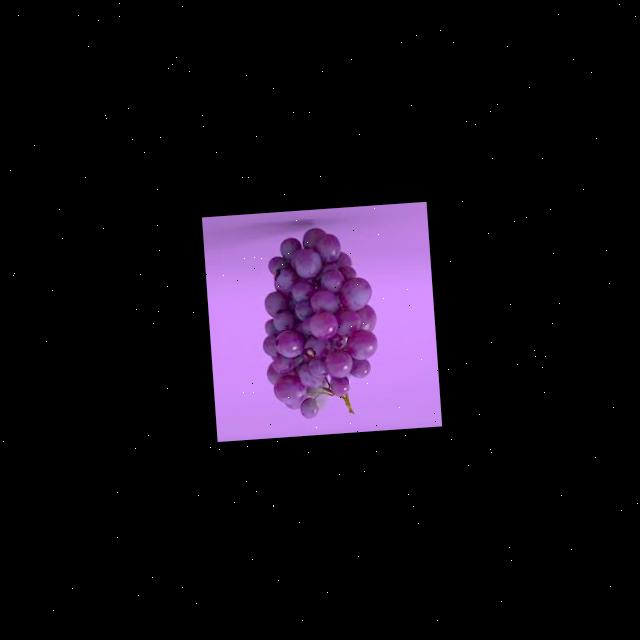grape: (253, 223, 382, 422)
